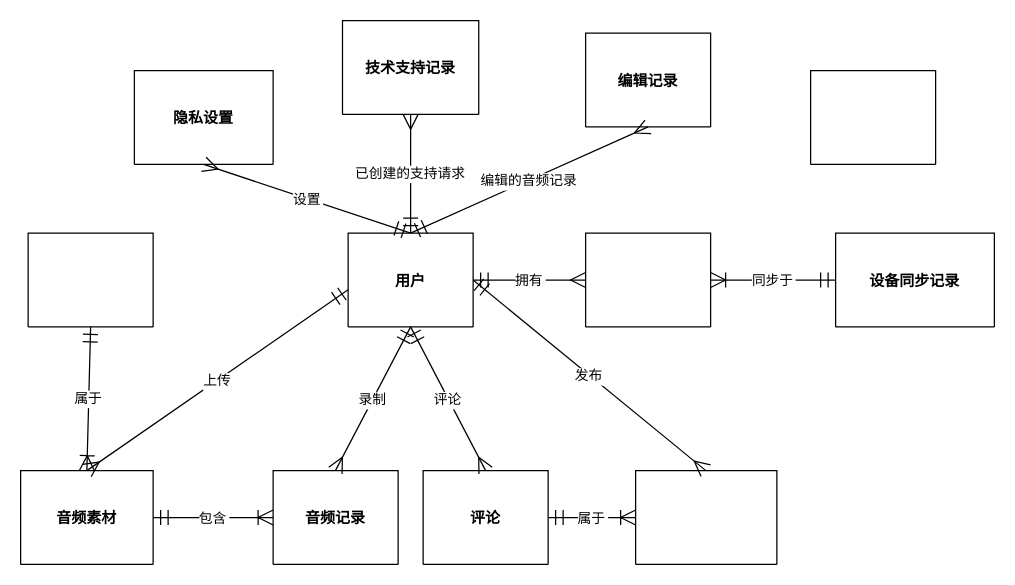
This 1015x585 diagram has some shape labels left out. The centre of each missing label's shape, as x and y in pixels:
"帮助文档" goes at pixel 872 116.
"社区帖子" goes at pixel 705 516.
"设备信息" goes at pixel 647 279.
"音频素材库" goes at pixel 90 279.
